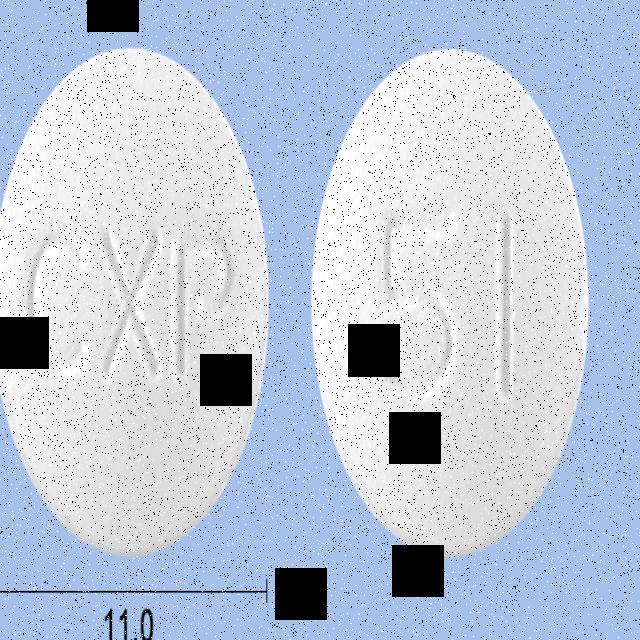Ciprotwo: (309, 42, 591, 567), (0, 37, 274, 566)
